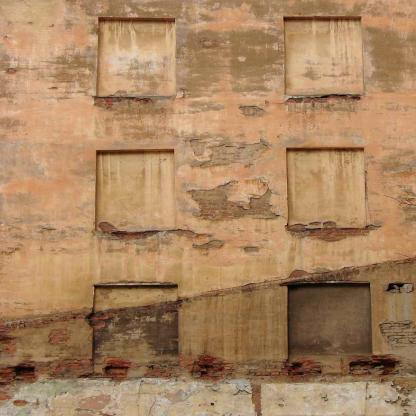Building Outline: (0, 0, 415, 416)
Facade: (0, 0, 415, 416)
Floor: (0, 123, 415, 260), (0, 264, 415, 397), (0, 0, 415, 118)
Floor Slab: (0, 118, 415, 122), (0, 260, 415, 264), (0, 397, 415, 401)
Window: (93, 284, 179, 363), (286, 148, 367, 231), (95, 149, 175, 231), (288, 283, 372, 360), (283, 16, 364, 95), (97, 17, 175, 96)
